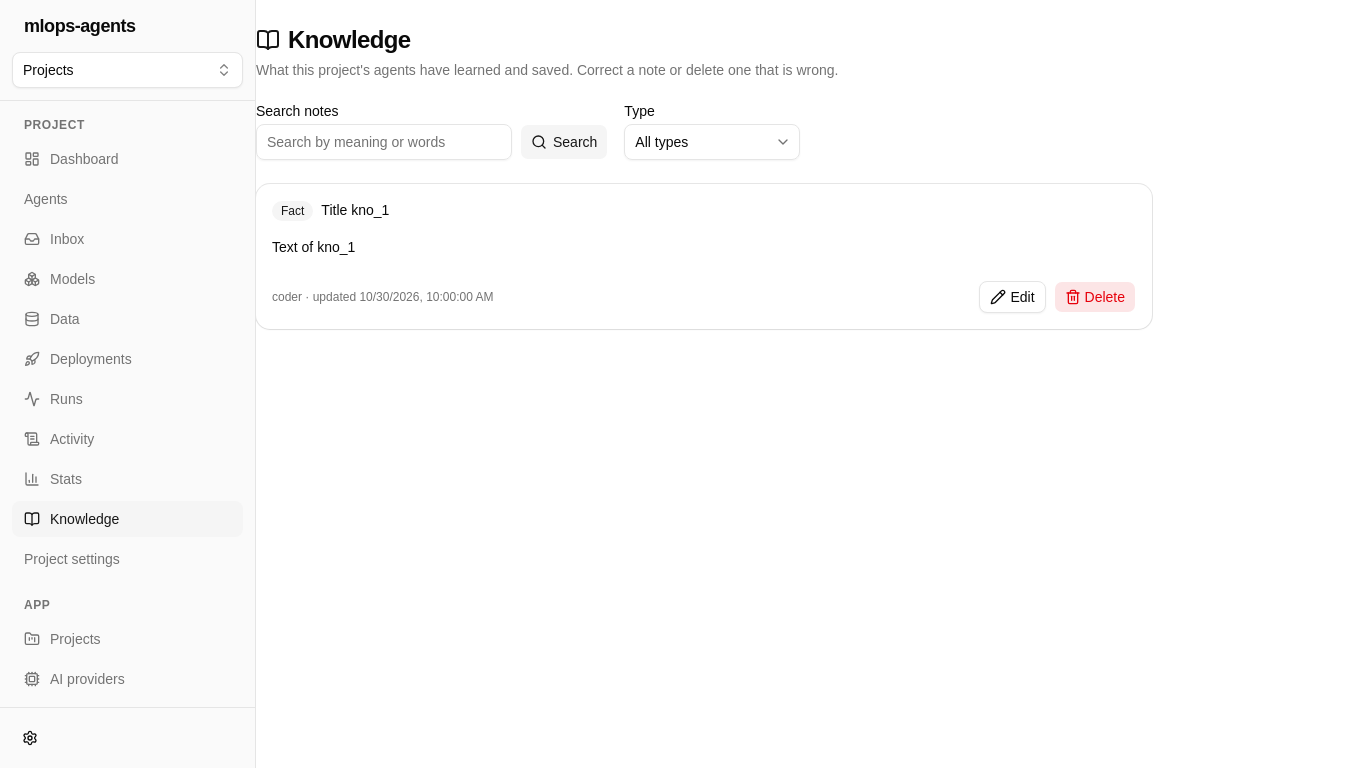
KnowledgePage › shows the server's invalid_note 422 message as is and keeps the editor open
Click the button "Edit".
click(1012, 297)  # box [979,281,1046,313]
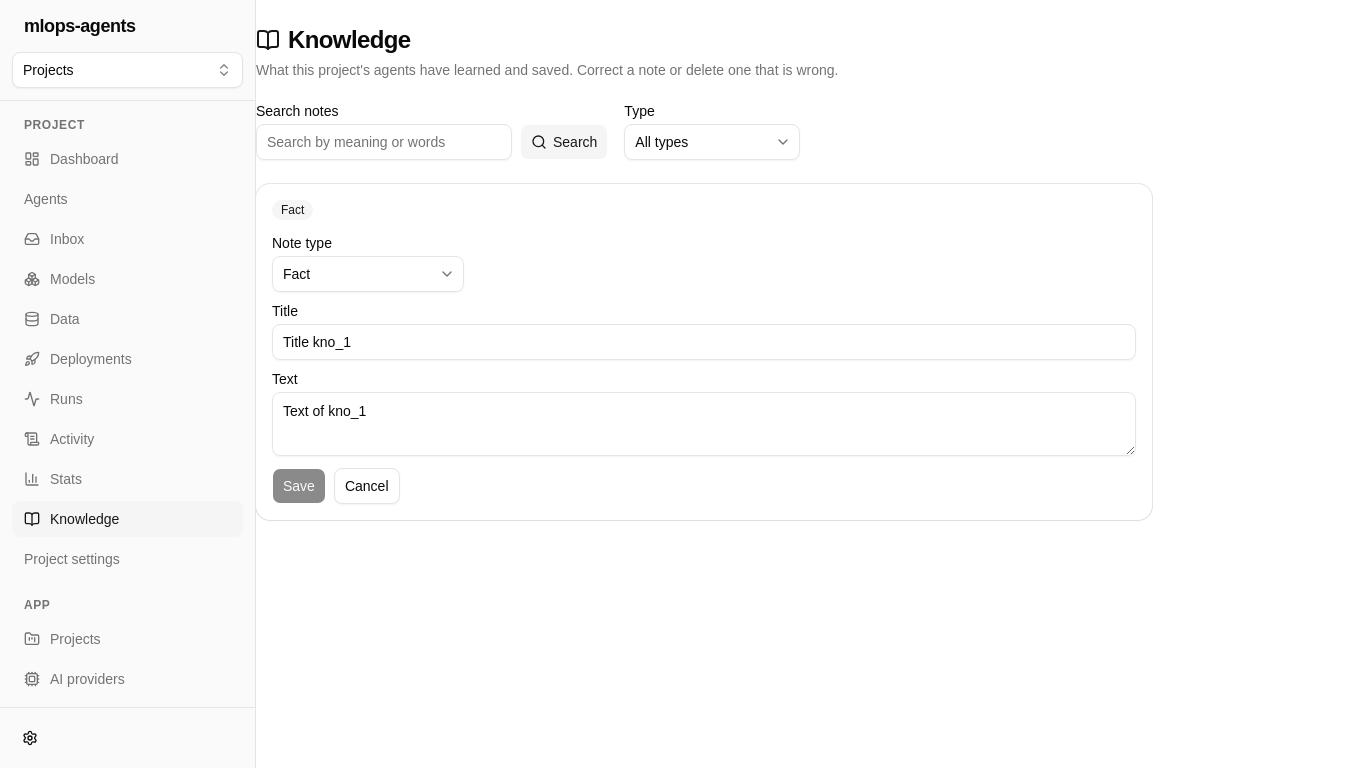
Type " more" into the field labelled "Title".
click(704, 342); type(" more")  # box [272,324,1136,360]
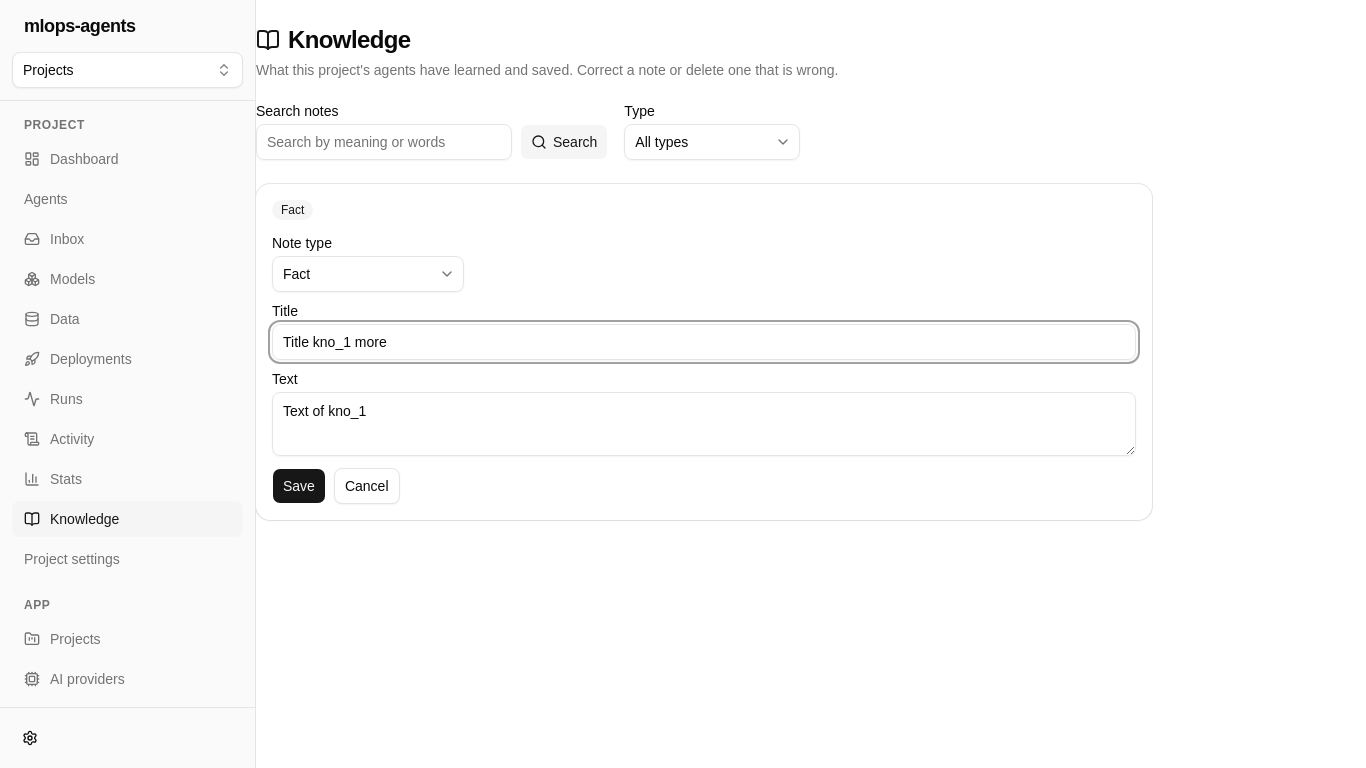
Click the button "Save".
click(299, 486)  # box [272,468,326,504]
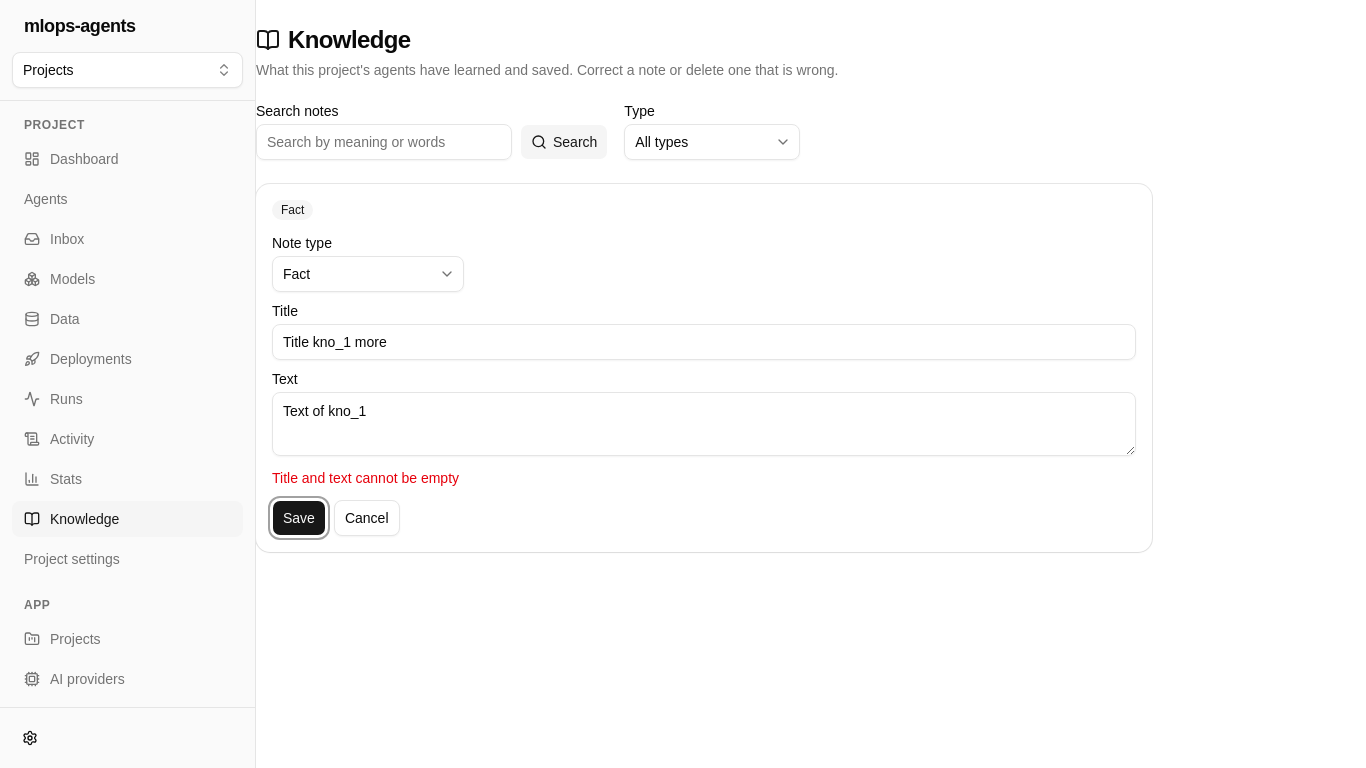
Result: the field labelled "Title" is shown at [272,324,1136,360]
Result: the text "Title and text cannot be empty" is shown at [272,470,459,486]
